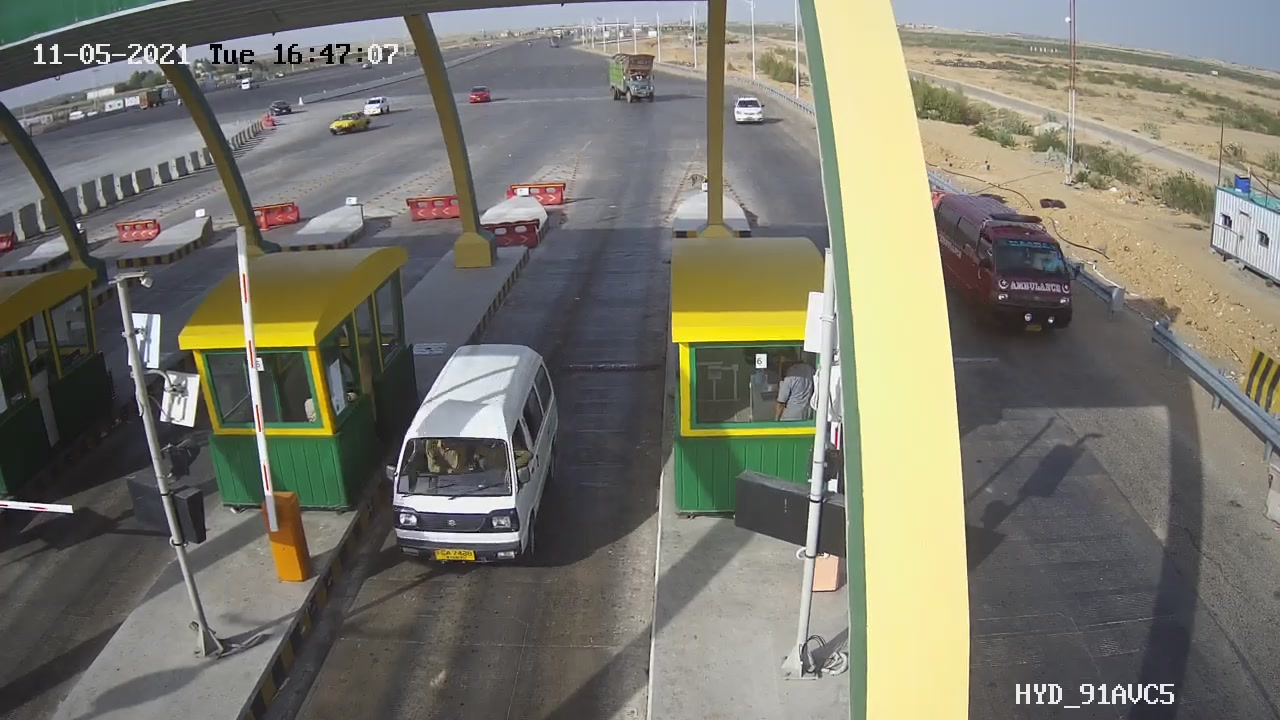F1: (362, 321, 581, 588)
